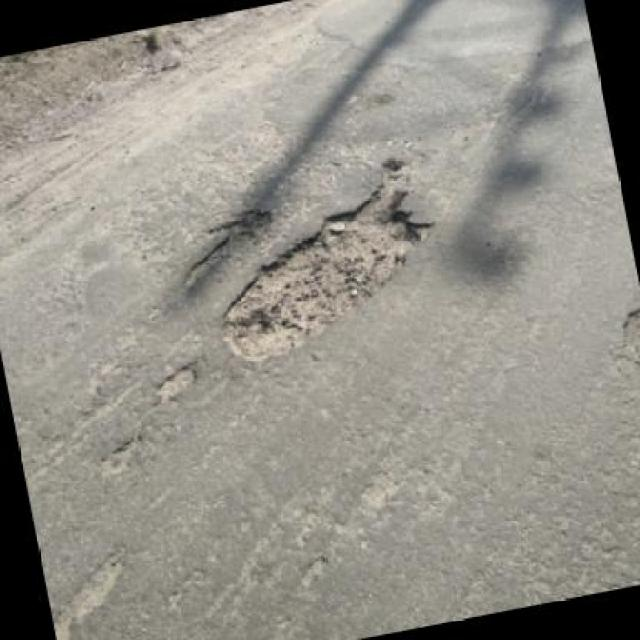pothole1: (196, 147, 455, 370), (168, 201, 284, 294), (40, 540, 146, 638), (143, 356, 208, 406), (614, 303, 638, 386)
